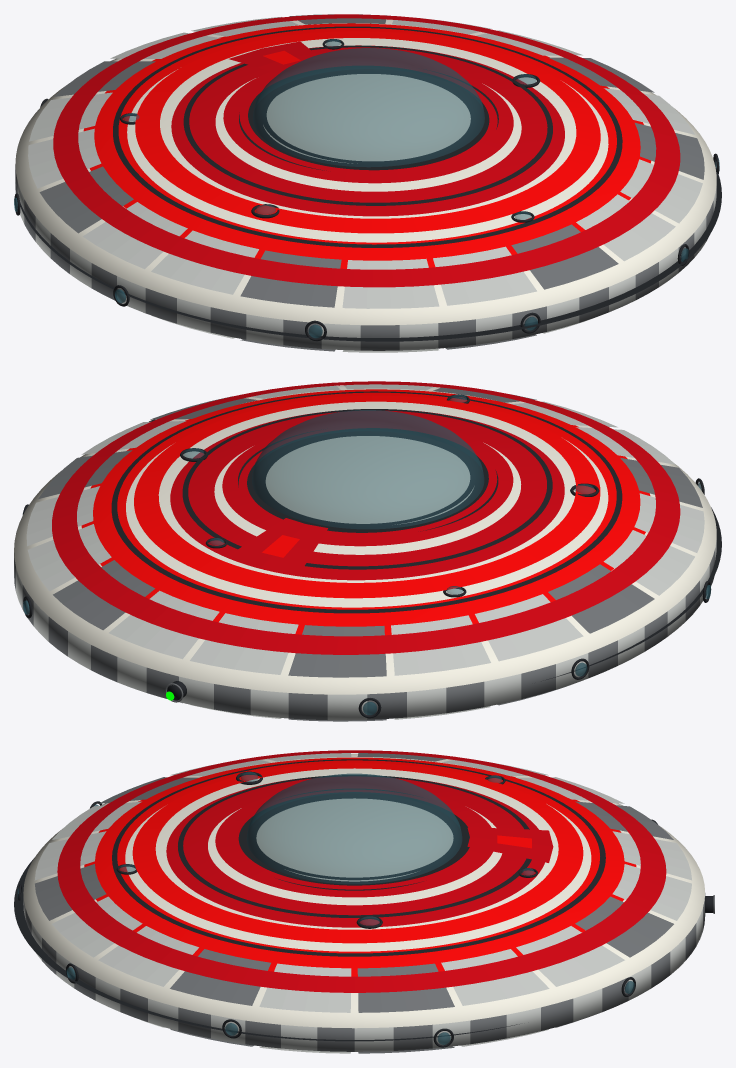
The model's file is Ship_FlyingSaucer_336064.glb.
3 views of the same model, one above another, from view 1: azimuth 30°, elevation 25°; view 2: azimuth 150°, elevation 25°; view 3: azimuth 270°, elevation 25° (orthographic). The views are drawn at different scales.
Visible parts, largest first — view 1: Hull_LenticularThickDiscBody, CommandDomeGlass_CenteredFlattenedDome, PaintRing_Top_03_ConcentricBand, PaintRing_Top_02_ConcentricBand, PaintRing_Top_01_ConcentricBand, CommandDomeFrame_UpperCircularRim, PanelRing_Top_03_DarkInsetLine, EquatorBand_DarkContinuousRimSeam, PanelRing_Top_02_DarkInsetLine, RimArmorSegment_14_UpperHullPlate, RimArmorSegment_13_UpperHullPlate, RimArmorSegment_15_UpperHullPlate (+17 smaller); view 2: Hull_LenticularThickDiscBody, CommandDomeGlass_CenteredFlattenedDome, PaintRing_Top_03_ConcentricBand, PaintRing_Top_02_ConcentricBand, PaintRing_Top_01_ConcentricBand, PanelRing_Top_03_DarkInsetLine, CommandDomeFrame_UpperCircularRim, RimArmorSegment_07_UpperHullPlate, RimArmorSegment_08_UpperHullPlate, PanelRing_Top_02_DarkInsetLine, RimArmorSegment_06_UpperHullPlate, RimArmorSegment_09_UpperHullPlate (+16 smaller); view 3: Hull_LenticularThickDiscBody, CommandDomeGlass_CenteredFlattenedDome, PaintRing_Top_03_ConcentricBand, PaintRing_Top_02_ConcentricBand, PaintRing_Top_01_ConcentricBand, PanelRing_Top_03_DarkInsetLine, CommandDomeFrame_UpperCircularRim, RimArmorSegment_01_UpperHullPlate, PanelRing_Top_02_DarkInsetLine, RimArmorSegment_02_UpperHullPlate, RimArmorSegment_20_UpperHullPlate, RimArmorSegment_19_UpperHullPlate (+15 smaller).
Boxes of the visible parts, bbox=[...] form: Hull_LenticularThickDiscBody: bbox=[15, 19, 716, 350]; CommandDomeGlass_CenteredFlattenedDome: bbox=[253, 48, 484, 167]; PaintRing_Top_03_ConcentricBand: bbox=[53, 14, 680, 287]; PaintRing_Top_02_ConcentricBand: bbox=[135, 31, 600, 233]; PaintRing_Top_01_ConcentricBand: bbox=[223, 57, 513, 183]; CommandDomeFrame_UpperCircularRim: bbox=[239, 66, 498, 170]; PanelRing_Top_03_DarkInsetLine: bbox=[113, 26, 622, 247]; EquatorBand_DarkContinuousRimSeam: bbox=[15, 166, 721, 341]; PanelRing_Top_02_DarkInsetLine: bbox=[183, 45, 552, 205]; RimArmorSegment_14_UpperHullPlate: bbox=[342, 258, 439, 308]; RimArmorSegment_13_UpperHullPlate: bbox=[240, 250, 341, 307]; RimArmorSegment_15_UpperHullPlate: bbox=[433, 246, 536, 305]; Hull_LenticularThickDiscBody: bbox=[14, 385, 716, 720]; CommandDomeGlass_CenteredFlattenedDome: bbox=[252, 410, 484, 529]; PaintRing_Top_03_ConcentricBand: bbox=[52, 381, 680, 654]; PaintRing_Top_02_ConcentricBand: bbox=[134, 395, 600, 598]; PaintRing_Top_01_ConcentricBand: bbox=[222, 420, 513, 546]; PanelRing_Top_03_DarkInsetLine: bbox=[111, 391, 622, 613]; CommandDomeFrame_UpperCircularRim: bbox=[238, 428, 498, 532]; RimArmorSegment_07_UpperHullPlate: bbox=[288, 625, 386, 677]; RimArmorSegment_08_UpperHullPlate: bbox=[391, 615, 490, 675]; PanelRing_Top_02_DarkInsetLine: bbox=[182, 409, 552, 569]; RimArmorSegment_06_UpperHullPlate: bbox=[190, 613, 298, 674]; RimArmorSegment_09_UpperHullPlate: bbox=[475, 594, 583, 661]; Hull_LenticularThickDiscBody: bbox=[23, 753, 705, 1051]; CommandDomeGlass_CenteredFlattenedDome: bbox=[246, 773, 462, 884]; PaintRing_Top_03_ConcentricBand: bbox=[57, 750, 666, 992]; PaintRing_Top_02_ConcentricBand: bbox=[132, 763, 583, 943]; PaintRing_Top_01_ConcentricBand: bbox=[215, 785, 492, 897]; PanelRing_Top_03_DarkInsetLine: bbox=[112, 759, 605, 956]; CommandDomeFrame_UpperCircularRim: bbox=[238, 789, 469, 890]; RimArmorSegment_01_UpperHullPlate: bbox=[357, 963, 454, 1012]; PanelRing_Top_02_DarkInsetLine: bbox=[178, 775, 531, 917]; RimArmorSegment_02_UpperHullPlate: bbox=[441, 949, 549, 1005]; RimArmorSegment_20_UpperHullPlate: bbox=[259, 963, 351, 1012]; RimArmorSegment_19_UpperHullPlate: bbox=[170, 949, 270, 1005].
Bounding box in the file's own units: 4.75 × 1.51 × 5.19.
